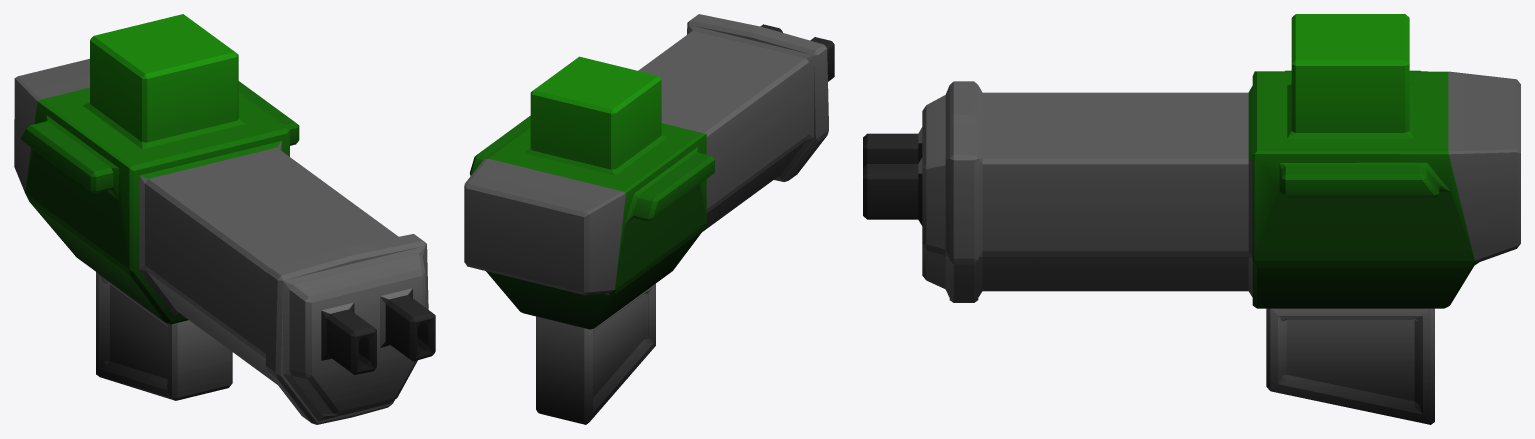
The model's file is Gun_Shot1.fbx.
3 views of the same model, side by side, from view 1: azimuth 30°, elevation 25°; view 2: azimuth 150°, elevation 25°; view 3: azimuth 270°, elevation 25° (orthographic). The views are drawn at different scales.
Visible parts, largest first — view 1: Gun_Shot_1; view 2: Gun_Shot_1; view 3: Gun_Shot_1.
Part boxes in pixels (x1,y1,x2,y2): Gun_Shot_1: [14, 14, 435, 424]; Gun_Shot_1: [464, 14, 834, 424]; Gun_Shot_1: [863, 14, 1520, 424].
Size of the model in its own units: 20.91 by 33.97 by 54.13.
